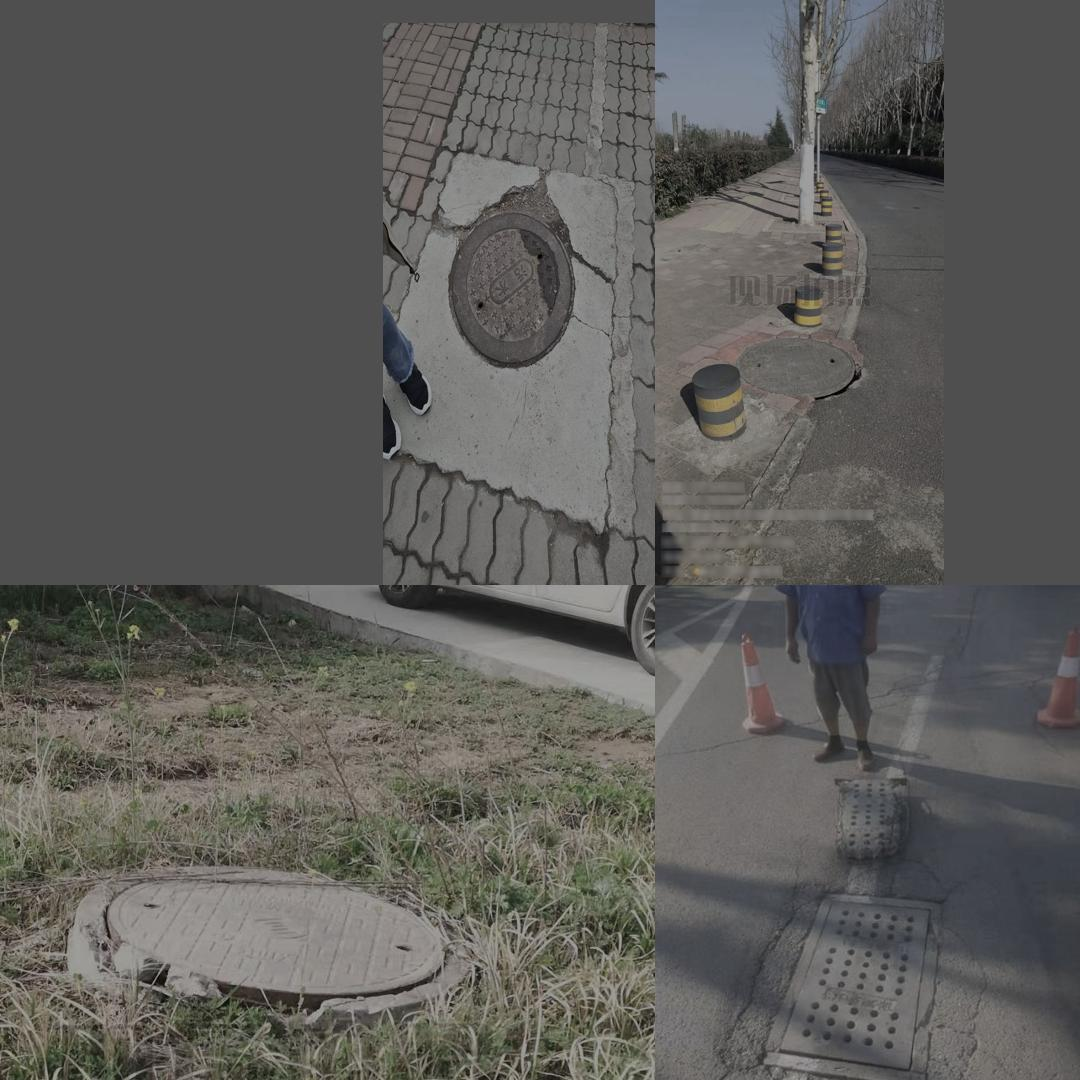circle: (71, 855, 498, 1031), (712, 869, 996, 1080), (424, 173, 606, 393), (733, 332, 864, 405)
